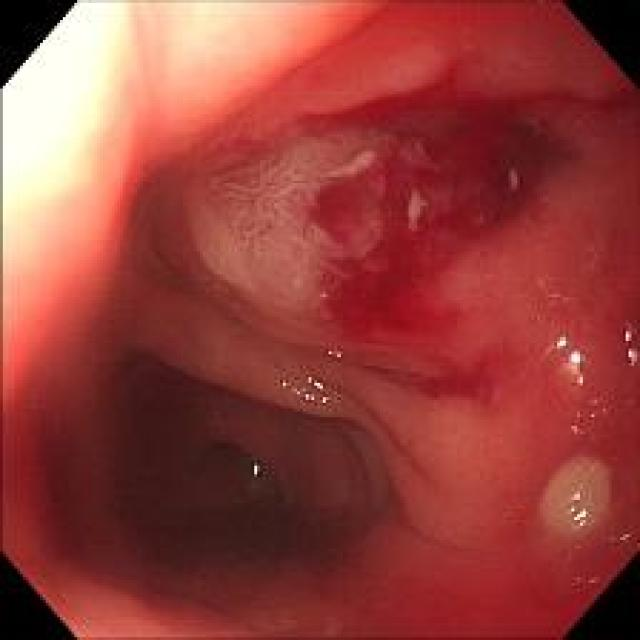blood: (316, 148, 505, 378)
contrast: (86, 386, 305, 578)
saturation: (1, 1, 130, 288)
specularity: (274, 359, 334, 412), (562, 396, 612, 439), (561, 480, 589, 535), (319, 338, 350, 364), (606, 526, 636, 550), (244, 452, 265, 485), (544, 329, 566, 356), (566, 345, 586, 372), (621, 326, 635, 362), (571, 574, 601, 586)
